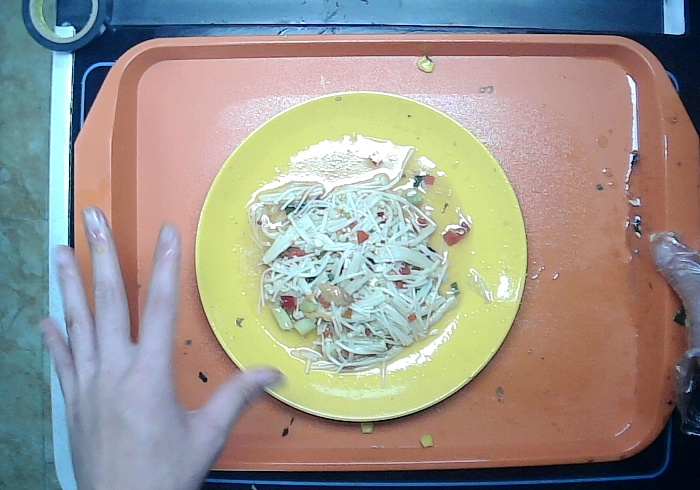HZYJPL-Huang_Se_Yuan_Pan: (193, 90, 530, 428)
